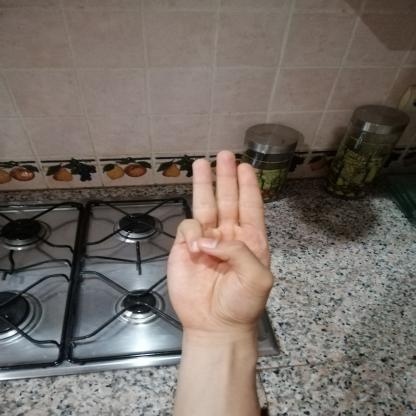THA: (152, 140, 290, 341)
